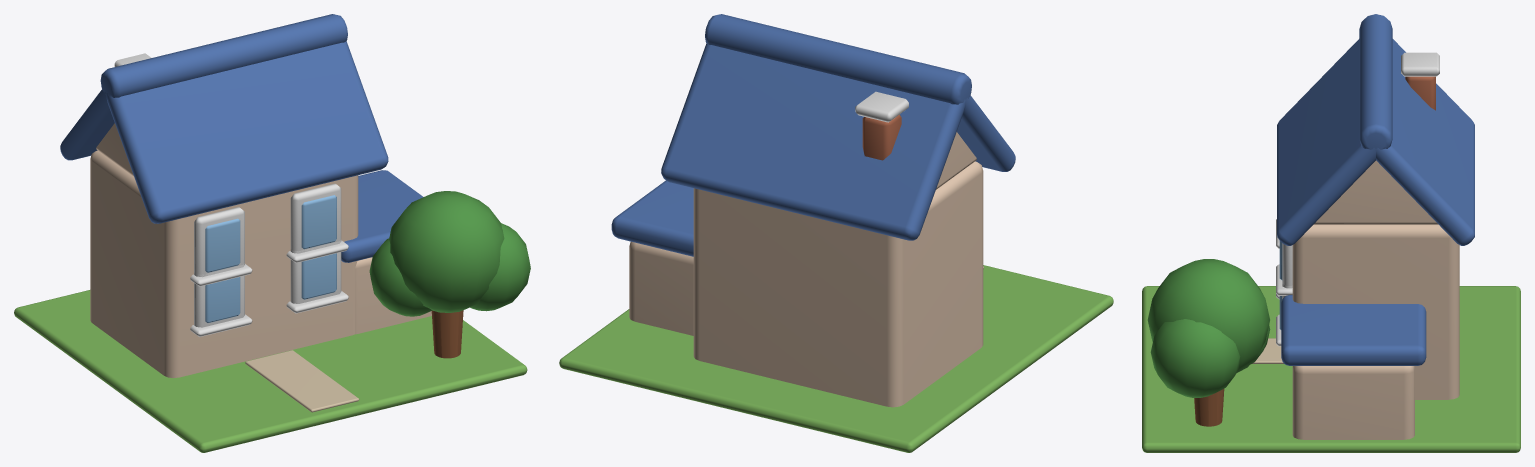
3 renders of one model, left to right at view 1: azimuth 30°, elevation 25°; view 2: azimuth 150°, elevation 25°; view 3: azimuth 270°, elevation 25°, orthographic. The views are drawn at different scales.
Parts seen in each view (by area): view 1: Cube; view 2: Cube; view 3: Cube.
Part boxes in pixels (x1=…): Cube: x1=14, y1=14, x2=530, y2=452; Cube: x1=559, y1=14, x2=1113, y2=452; Cube: x1=1142, y1=14, x2=1520, y2=452.
Bounding box in the file's own units: 0.7264 × 0.582 × 0.68.
